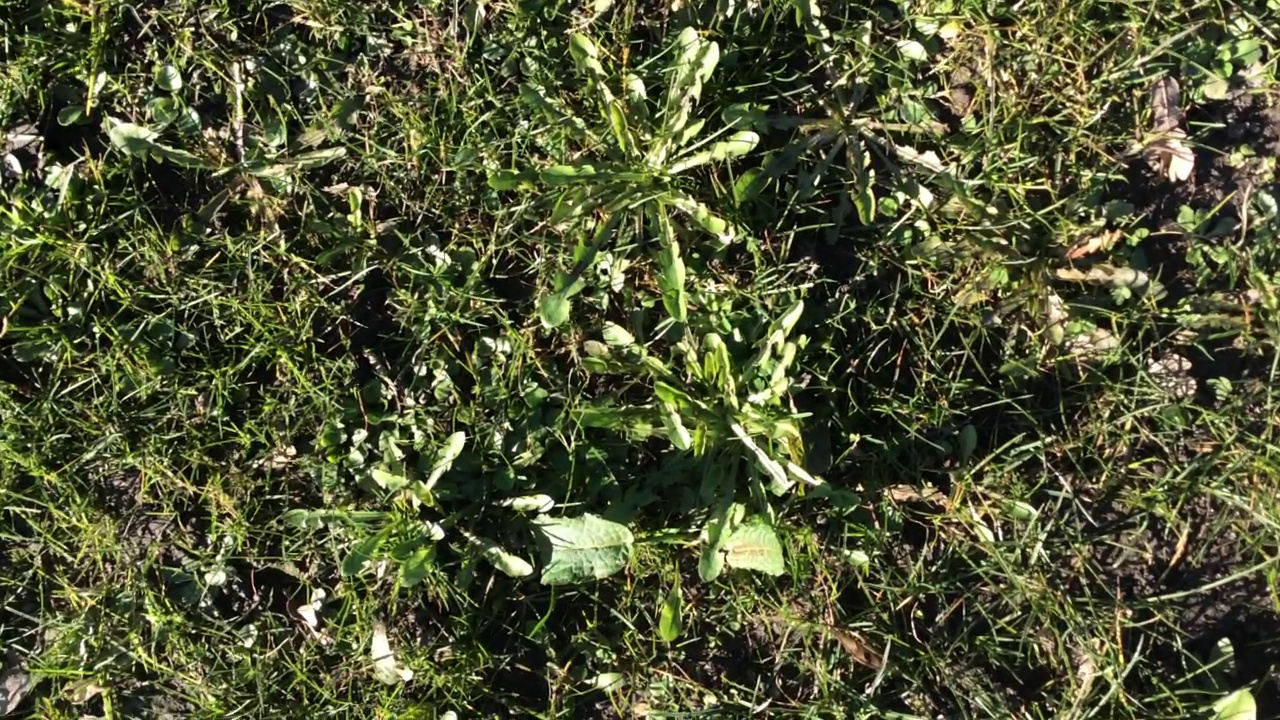rumex: (513, 516, 633, 585), (713, 526, 786, 572)
